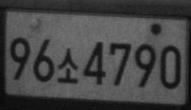0: (159, 44, 181, 90)
4: (83, 42, 105, 84)
6: (33, 38, 55, 83)
7: (108, 42, 132, 85)
9: (133, 42, 156, 88), (9, 37, 30, 81)
소: (57, 48, 79, 84)
